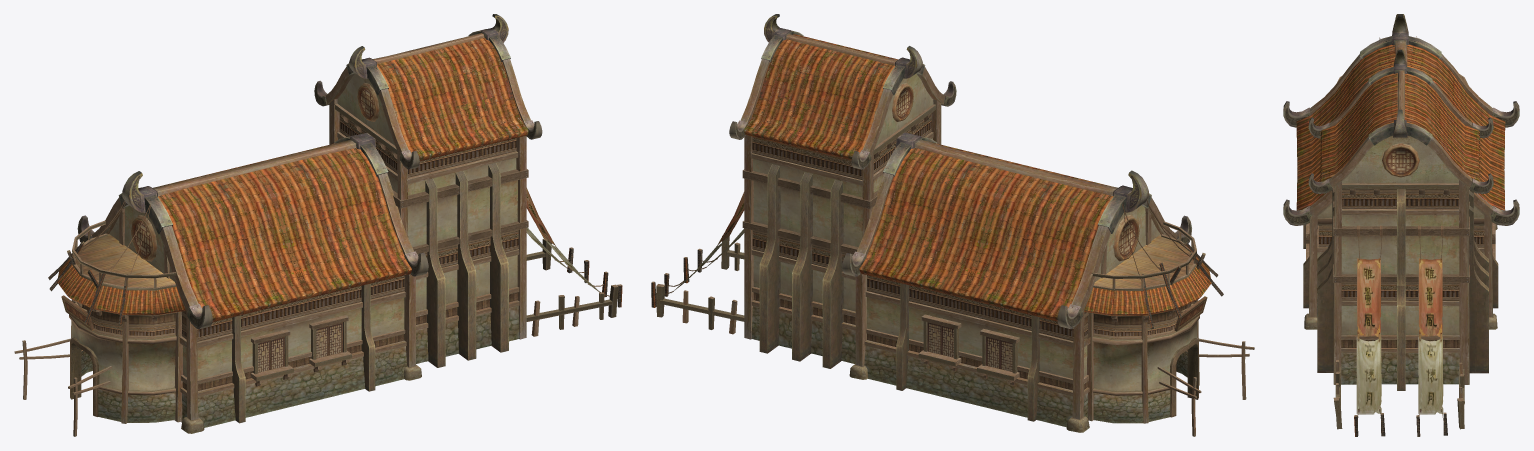
Rendered from Building_002_02.fbx.
The picture shows the model from 3 angles, left to right: view 1: azimuth 30°, elevation 25°; view 2: azimuth 150°, elevation 25°; view 3: azimuth 270°, elevation 25°; orthographic projection. The views are drawn at different scales.
Visible parts, largest first — view 1: Building_002_02; view 2: Building_002_02; view 3: Building_002_02.
Part boxes in pixels (x1,y1,x2,y2): Building_002_02: (14, 14, 622, 436); Building_002_02: (651, 14, 1254, 436); Building_002_02: (1283, 14, 1519, 436).
Bounding box in the file's own units: 3971 × 2047 × 1567.
3 materials, 3 textured.
